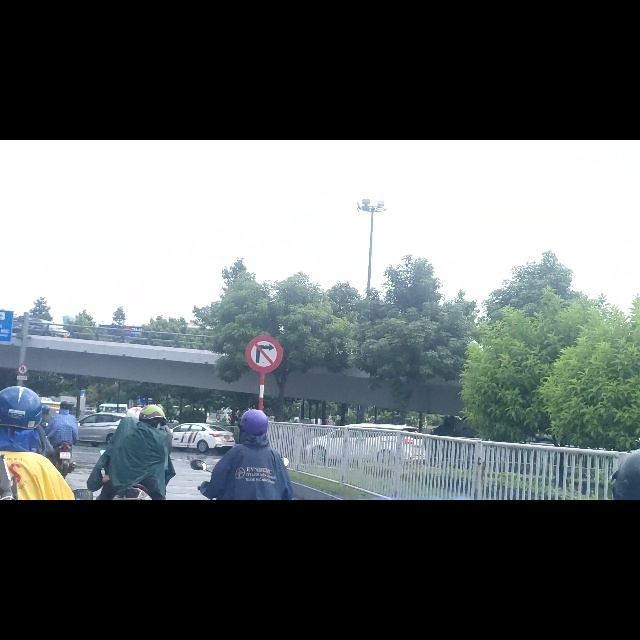bien_cam: (245, 345, 283, 414)
